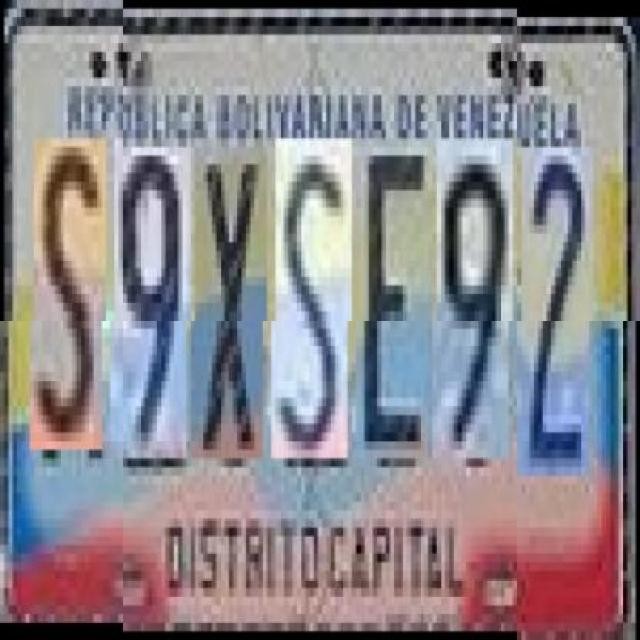2: (521, 138, 594, 467)
9: (436, 138, 513, 458), (114, 146, 191, 459)
e: (360, 138, 432, 458)
s: (276, 138, 352, 458), (34, 146, 106, 459)
x: (195, 146, 267, 459)
